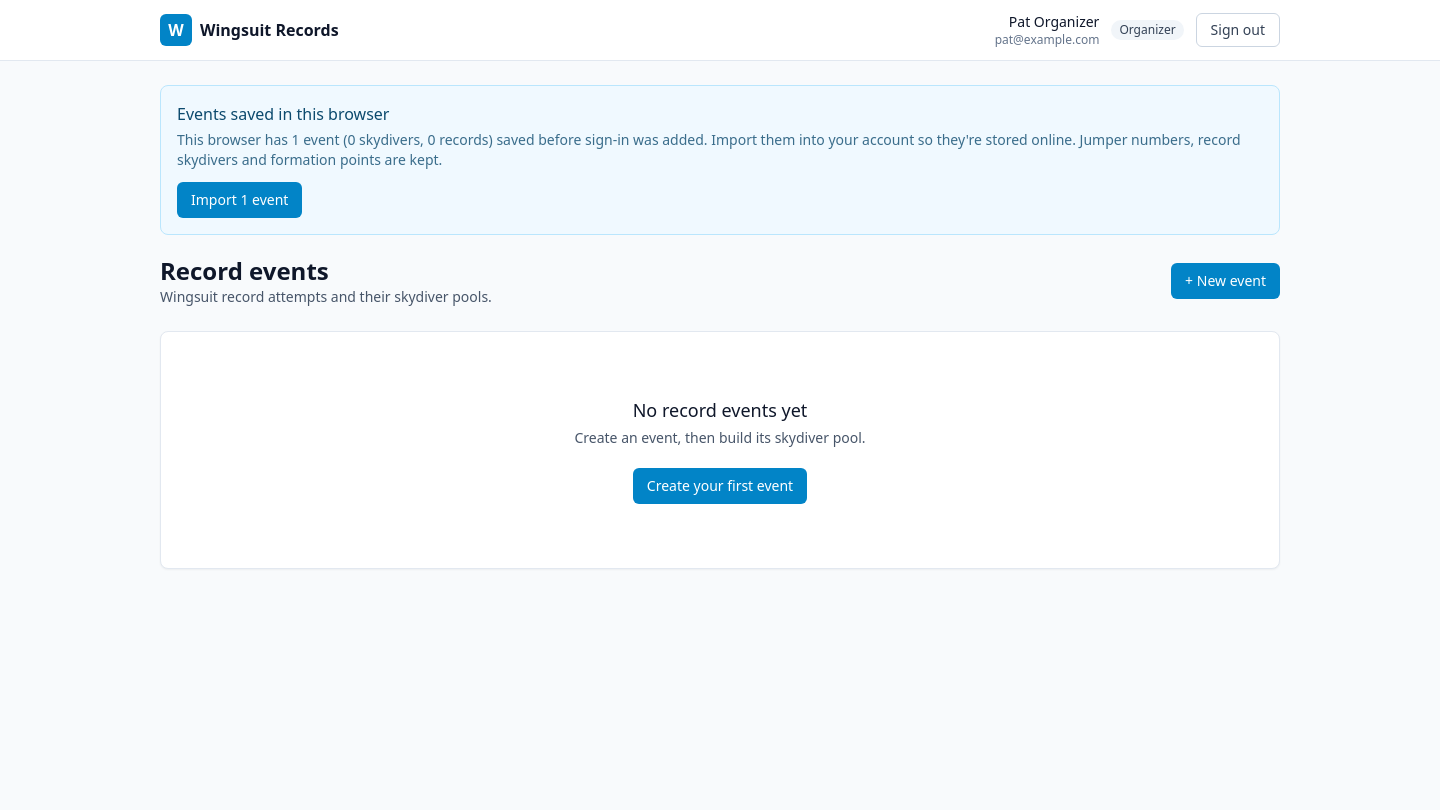
Test: App › offers a one-time import of events saved in this browser
Click the button "Import 1 event".
click(240, 200)  # box x1=177 y1=182 x2=302 y2=218
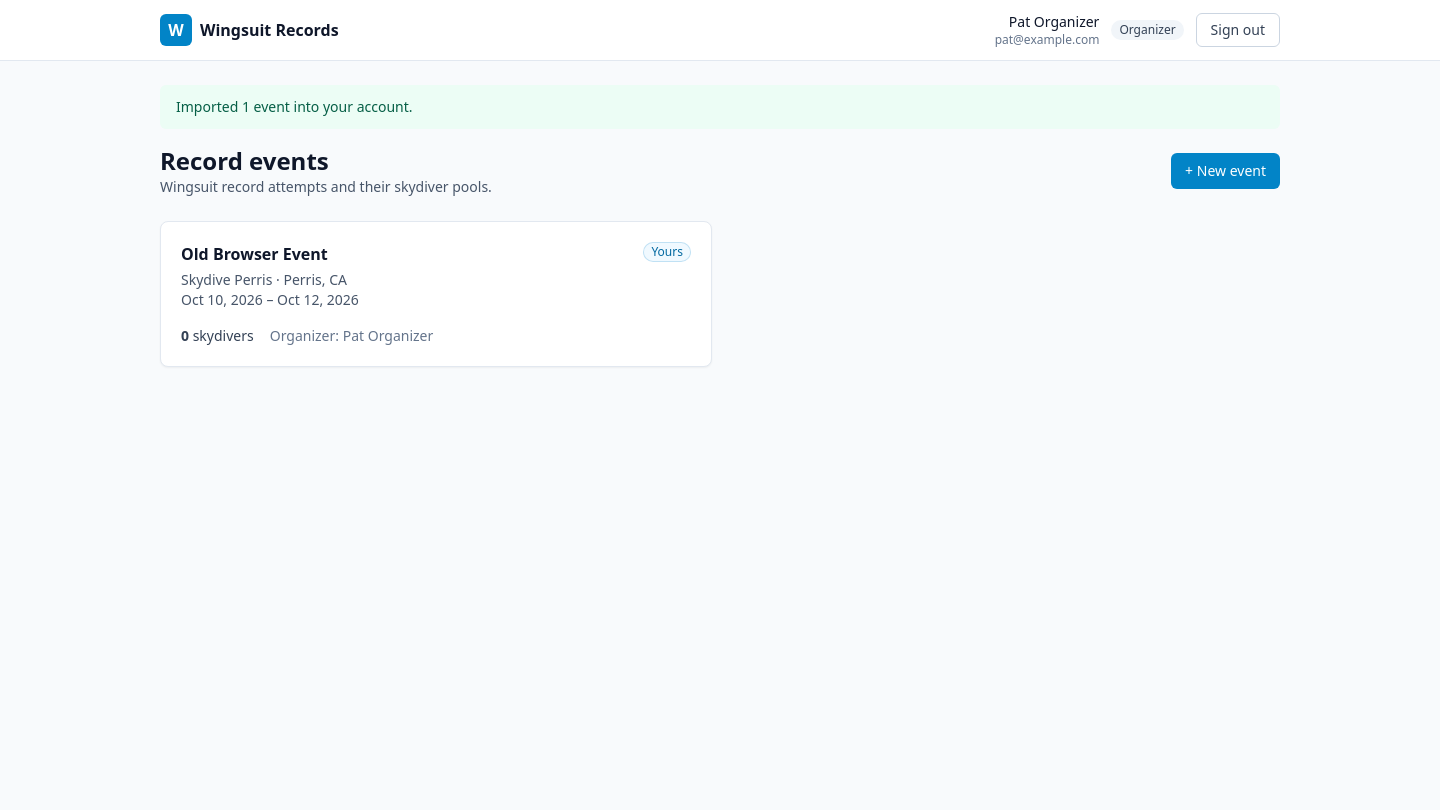
Check: the message reads "Imported 1 event into your account.", box x1=176 y1=97 x2=412 y2=116
Check: the link "Old Browser Event" is shown, box x1=160 y1=221 x2=712 y2=367
